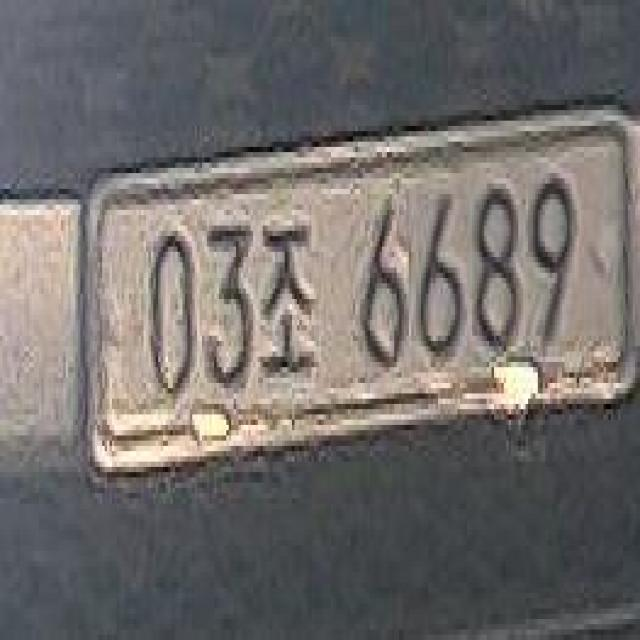illegal_plate: (91, 112, 639, 462)
